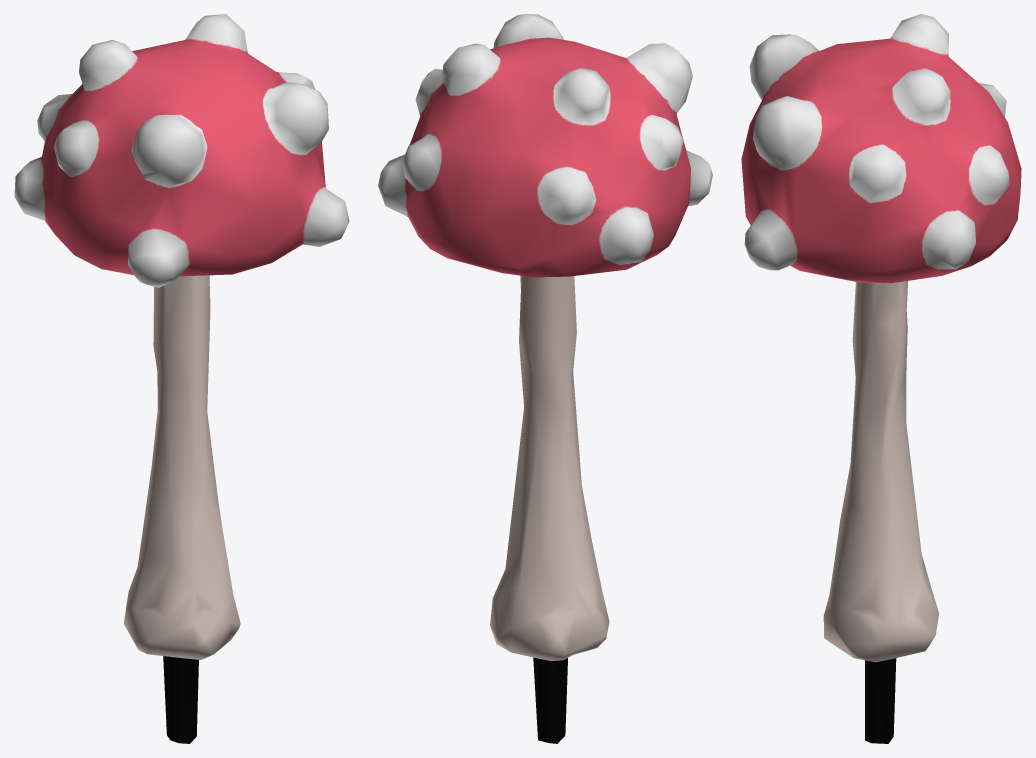
Rendered from sword.glb.
The picture shows the model from 3 angles, left to right: view 1: azimuth 30°, elevation 25°; view 2: azimuth 150°, elevation 25°; view 3: azimuth 270°, elevation 25°; orthographic projection.
Visible parts, largest first — view 1: ProcessedMeshNode_LOD1; view 2: ProcessedMeshNode_LOD1; view 3: ProcessedMeshNode_LOD1.
Part boxes in pixels (left/top/right/bottom): ProcessedMeshNode_LOD1: left=14, top=14, right=349, bottom=743; ProcessedMeshNode_LOD1: left=378, top=14, right=712, bottom=743; ProcessedMeshNode_LOD1: left=741, top=14, right=1021, bottom=743.
Size of the model in its own units: 0.6865 by 1.72 by 0.6255.
1 material, 1 textured.
